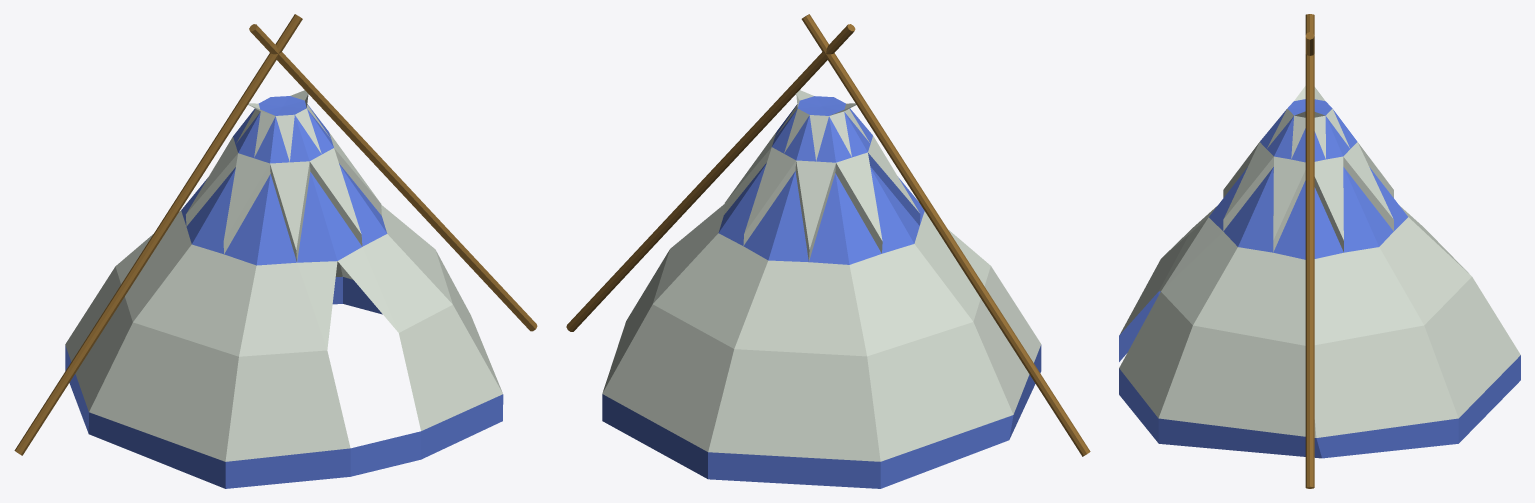
The model's file is Tent_M_Blue.fbx.
3 renders of one model, left to right at view 1: azimuth 30°, elevation 25°; view 2: azimuth 150°, elevation 25°; view 3: azimuth 270°, elevation 25°, orthographic. The views are drawn at different scales.
Parts seen in each view (by area): view 1: Tent_M_Blue; view 2: Tent_M_Blue; view 3: Tent_M_Blue.
Part boxes in pixels (<box>): Tent_M_Blue: <box>14,14,537,488</box>; Tent_M_Blue: <box>566,14,1090,488</box>; Tent_M_Blue: <box>1119,14,1520,488</box>.
Size of the model in its own units: 270 by 187 by 192.
